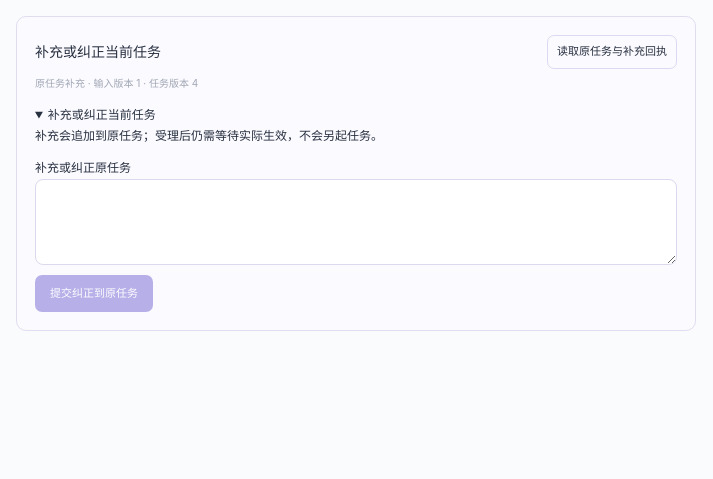
Test case: running correction and actual accepted/applied/superseded/cancelled receipts stay separate
Type "  更正范围  " into the text box labelled "补充或纠正原任务" at (356, 222), box [35,179,677,265]
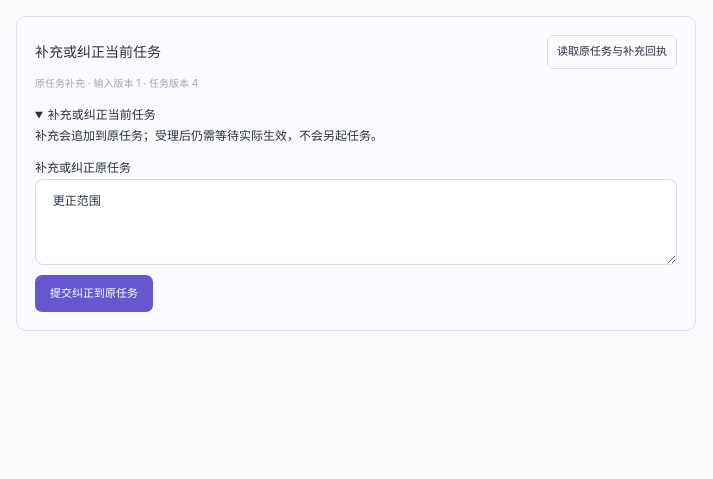
Expected: the button "提交纠正到原任务" is enabled
Click the button "提交纠正到原任务" at (94, 294), box [35,275,153,312]
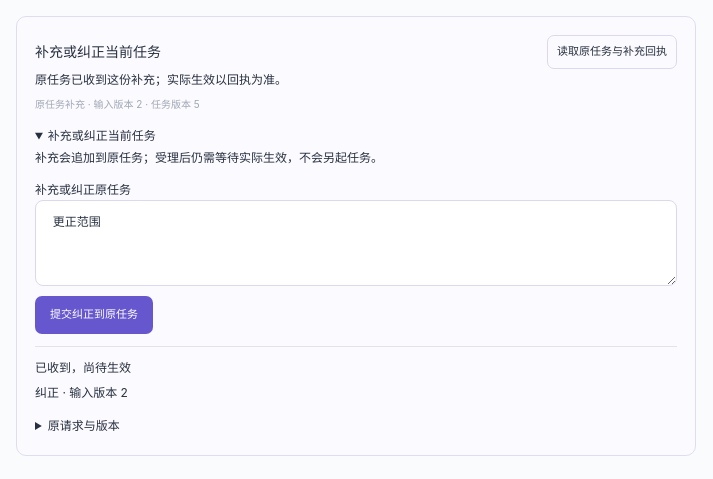
Expected: the text "已收到，尚待生效" is shown, [35,360,131,375]
Click the button "读取原任务与补充回执" at (612, 52), box [547,35,677,69]
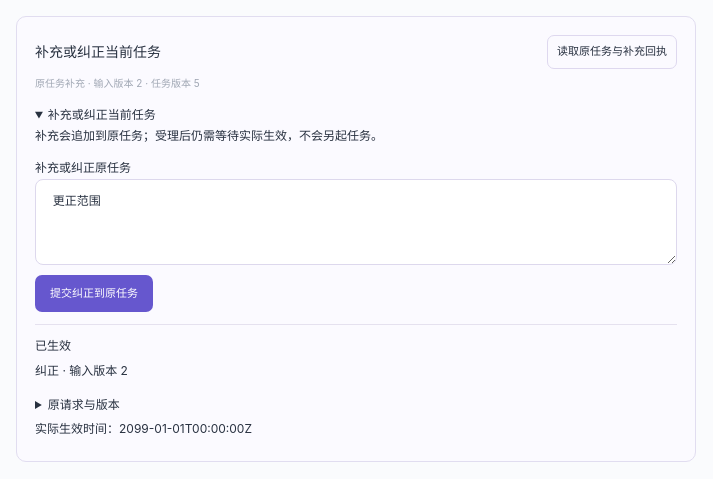
Expected: the text "已生效" is shown, [35,338,71,353]
Click the button "读取原任务与补充回执" at (612, 52), box [547,35,677,69]
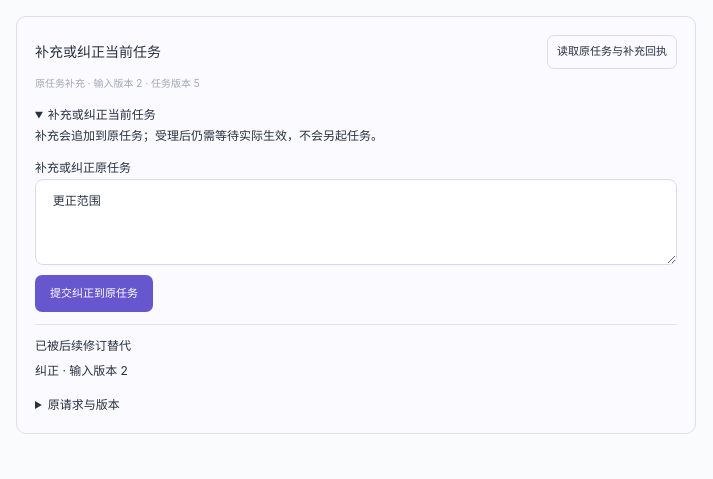
Expected: the text "已被后续修订替代" is shown, [35,338,131,353]
Click the button "读取原任务与补充回执" at (612, 52), box [547,35,677,69]
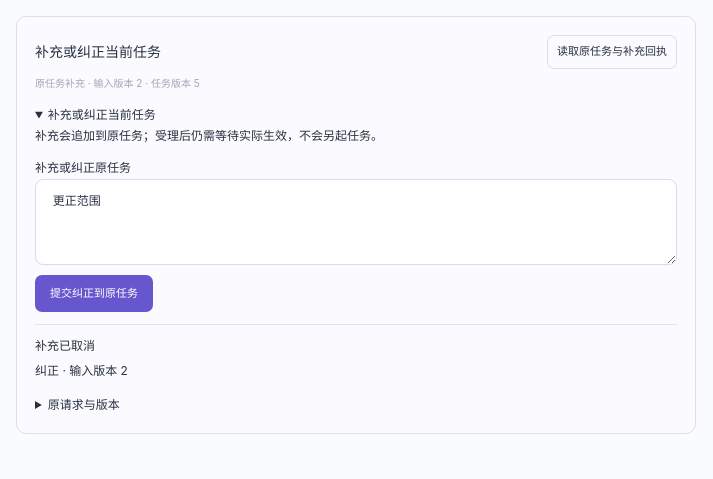
Expected: the text "补充已取消" is shown, [35,338,95,353]
